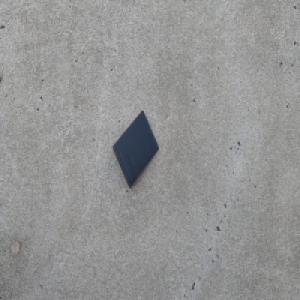PlasticPart: (112, 108, 159, 188)
